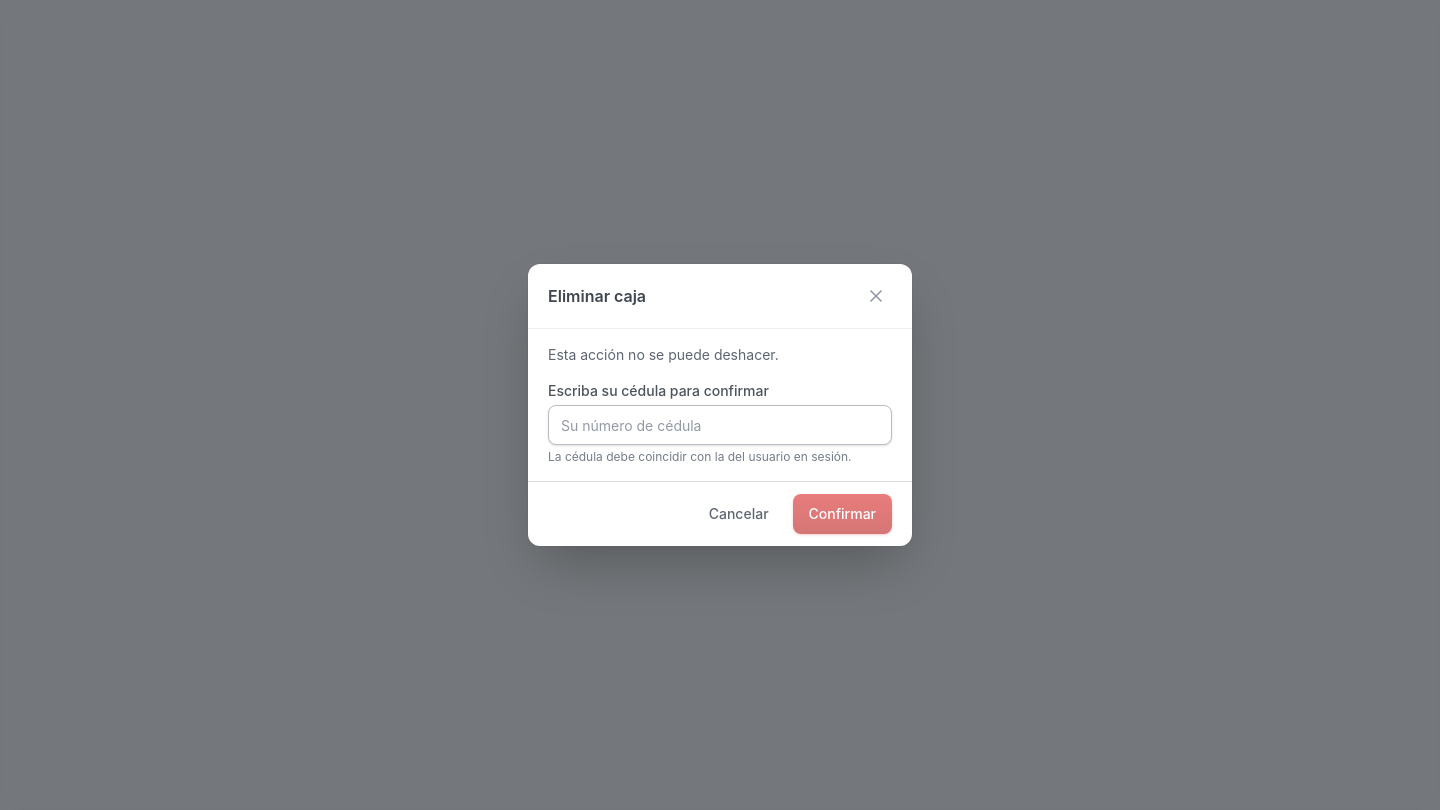
Test: cuando hay que escribir la cédula › los espacios sobrantes no impiden confirmar
The image size is (1440, 810).
Type "  123456789  " into the field labelled "Escriba su cédula para confirmar". click: (720,425)
box: [548, 405, 892, 445]
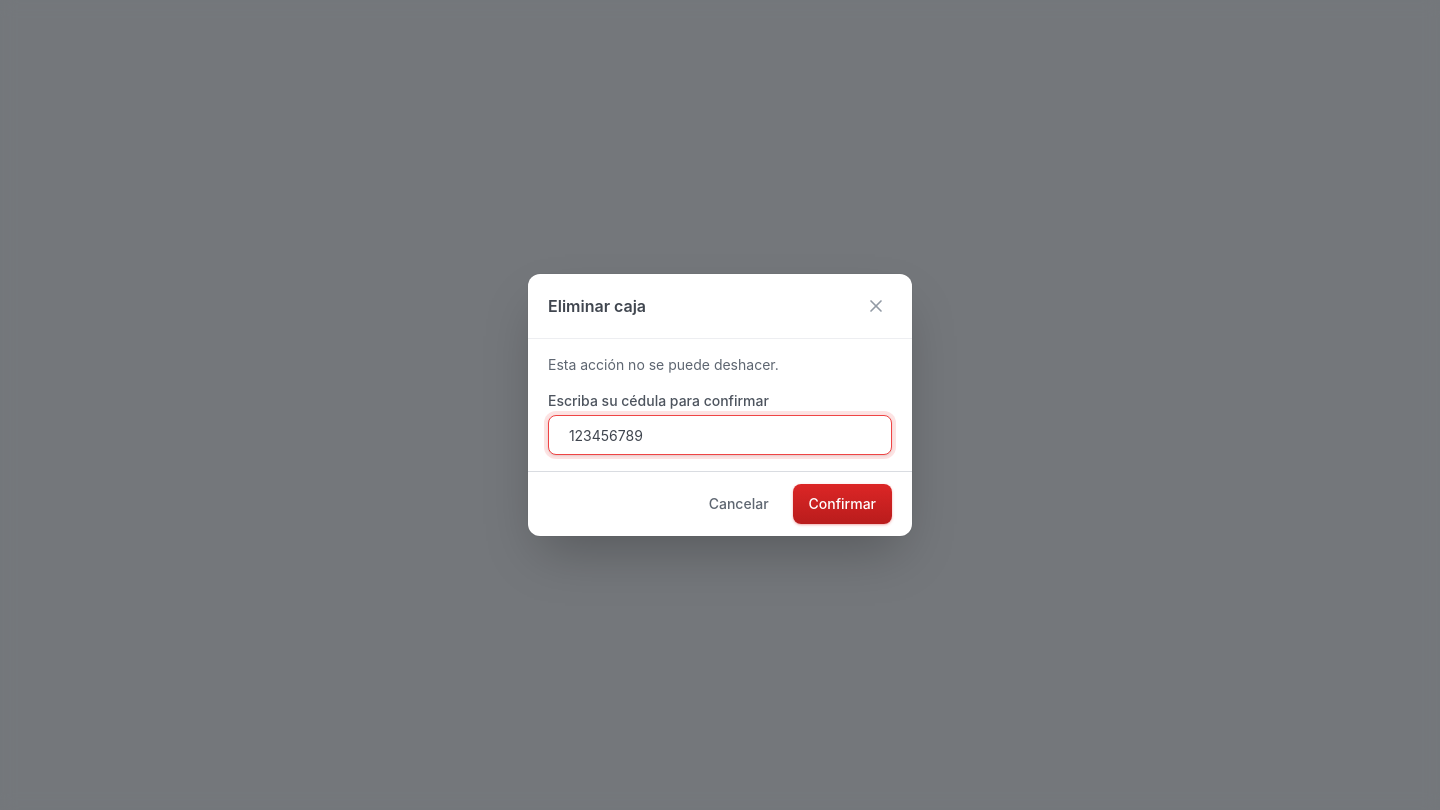
Check: the button "Confirmar" is enabled, box [793, 484, 892, 524]
